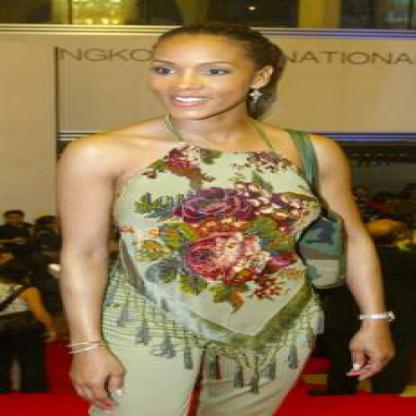face: (140, 28, 259, 122)
